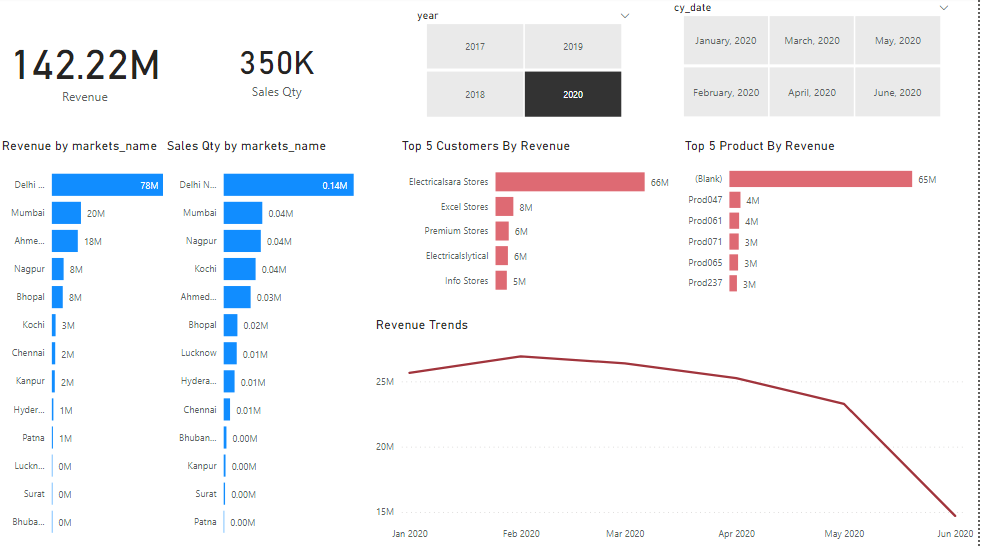

What the dashboard file says about the page in this screenshot:
{"tool":"powerbi","page":{"name":"Page 1","canvas":[1280,720],"ordinal":0},"visuals":[{"type":"card","fields":{"Values":["BaseMeasures.Sales Qty"]},"box":[238.5,0,250.3,183.1],"z":0},{"type":"card","fields":{"Values":["BaseMeasures.Revenue"]},"box":[0,0,226.8,174.7],"z":1000},{"type":"barChart","fields":{"Y":["BaseMeasures.Revenue"],"Category":["sales markets.markets_name"]},"box":[0,184.8,226.8,535.9],"z":2000},{"type":"slicer","fields":{"Values":["sales date.year"]},"box":[534.2,10.1,304,152.9],"z":3000},{"type":"slicer","fields":{"Values":["sales date.cy_date"]},"box":[870.1,0,384.7,162.9],"z":4000},{"type":"barChart","fields":{"Y":["BaseMeasures.Sales Qty"],"Category":["sales markets.markets_name"]},"box":[215,184.8,262,535.9],"z":5000},{"type":"barChart","title":"Top 5 Customers By Revenue","fields":{"Y":["BaseMeasures.Revenue"],"Category":["sales customers.custmer_name"]},"box":[522.4,184.8,369.6,216.7],"z":6000},{"type":"barChart","title":"Top 5 Product By Revenue","fields":{"Y":["BaseMeasures.Revenue"],"Category":["sales products.product_code"]},"box":[892,184.8,362.8,216.7],"z":7000},{"type":"lineChart","title":"Revenue Trends","fields":{"Y":["BaseMeasures.Revenue"],"Category":["sales date.cy_date.Variation.Date Hierarchy.Year","sales date.cy_date.Variation.Date Hierarchy.Month"]},"box":[488.8,418.3,791.2,302.4],"z":8000}]}

Visuals, with their boxes in screenshot pixels (x1, y1, x2, y2), scaled from the page's 1280x720 canvas onto the 981x546 screenshot:
card - BaseMeasures.Sales Qty: (183, 0, 375, 139)
card - BaseMeasures.Revenue: (0, 0, 174, 132)
barChart - BaseMeasures.Revenue x sales markets.markets_name: (0, 140, 174, 545)
slicer - sales date.year: (409, 8, 642, 124)
slicer - sales date.cy_date: (667, 0, 962, 124)
barChart - BaseMeasures.Sales Qty x sales markets.markets_name: (165, 140, 366, 545)
"Top 5 Customers By Revenue" barChart: (400, 140, 684, 304)
"Top 5 Product By Revenue" barChart: (684, 140, 962, 304)
"Revenue Trends" lineChart: (375, 317, 980, 545)
